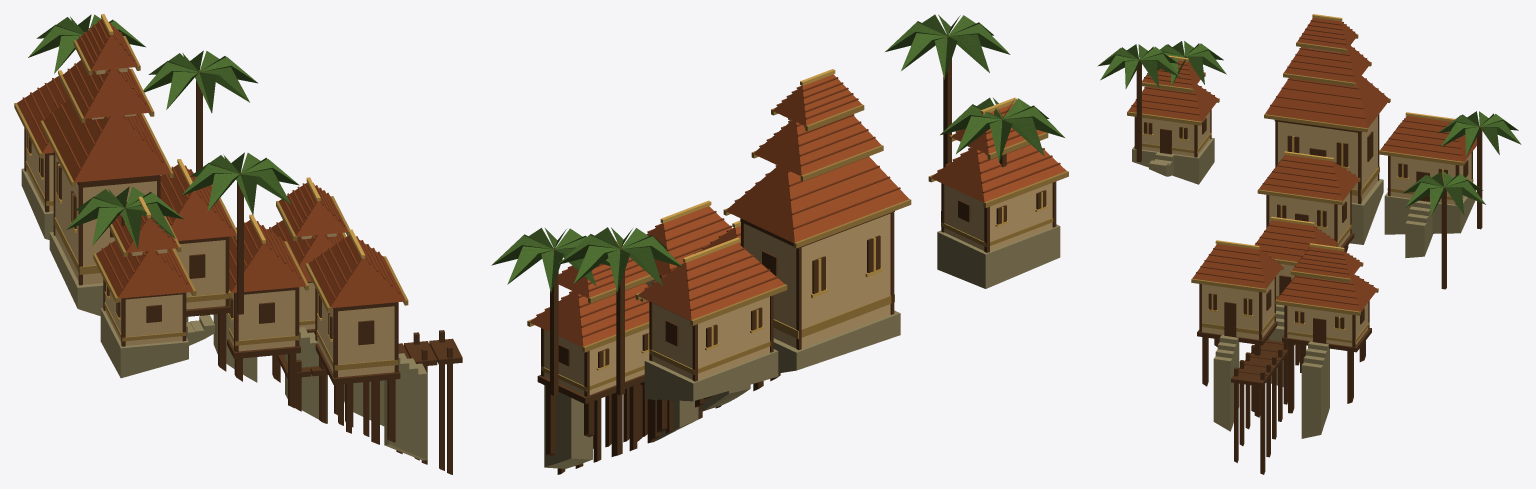
File: malacca.obj
The picture shows the model from 3 angles, left to right: view 1: azimuth 30°, elevation 25°; view 2: azimuth 150°, elevation 25°; view 3: azimuth 270°, elevation 25°; orthographic projection. The views are drawn at different scales.
Visible parts, largest first — view 1: malacca; view 2: malacca; view 3: malacca.
Boxes of the visible parts, left/top/right/bottom form: malacca: left=14, top=14, right=462, bottom=474; malacca: left=491, top=14, right=1068, bottom=474; malacca: left=1097, top=14, right=1521, bottom=474.
Bounding box in the file's own units: 13.51 × 14.57 × 15.82.
